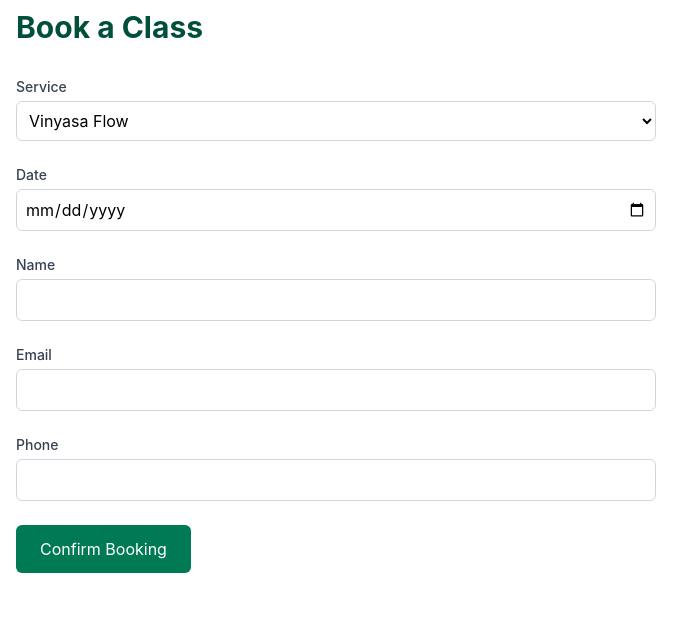
Scenario: Booking page › shows a message when a date has no open slots
Type "2026-10-01" into the date field labelled "Date".
click(336, 210); type("2026-10-01")  # box [16,189,656,231]
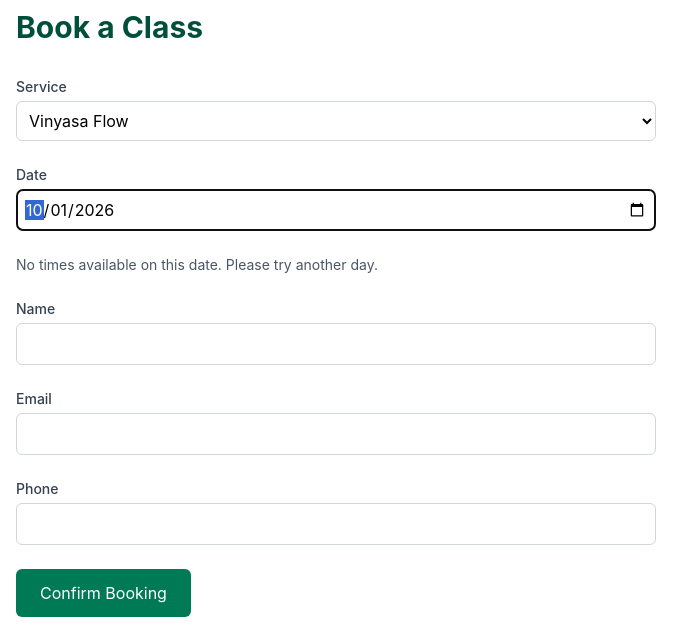
Expected: the text "No times available on this date. Please try another day." is shown, [16,256,378,273]
